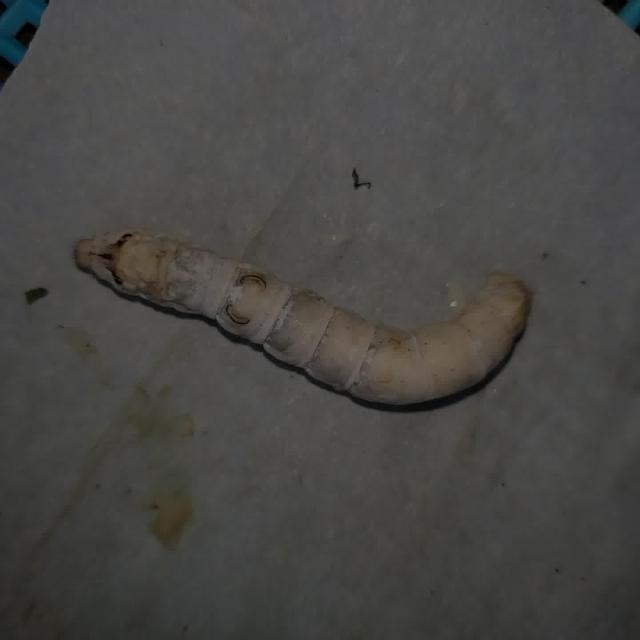Grasserie: (64, 218, 540, 422)
